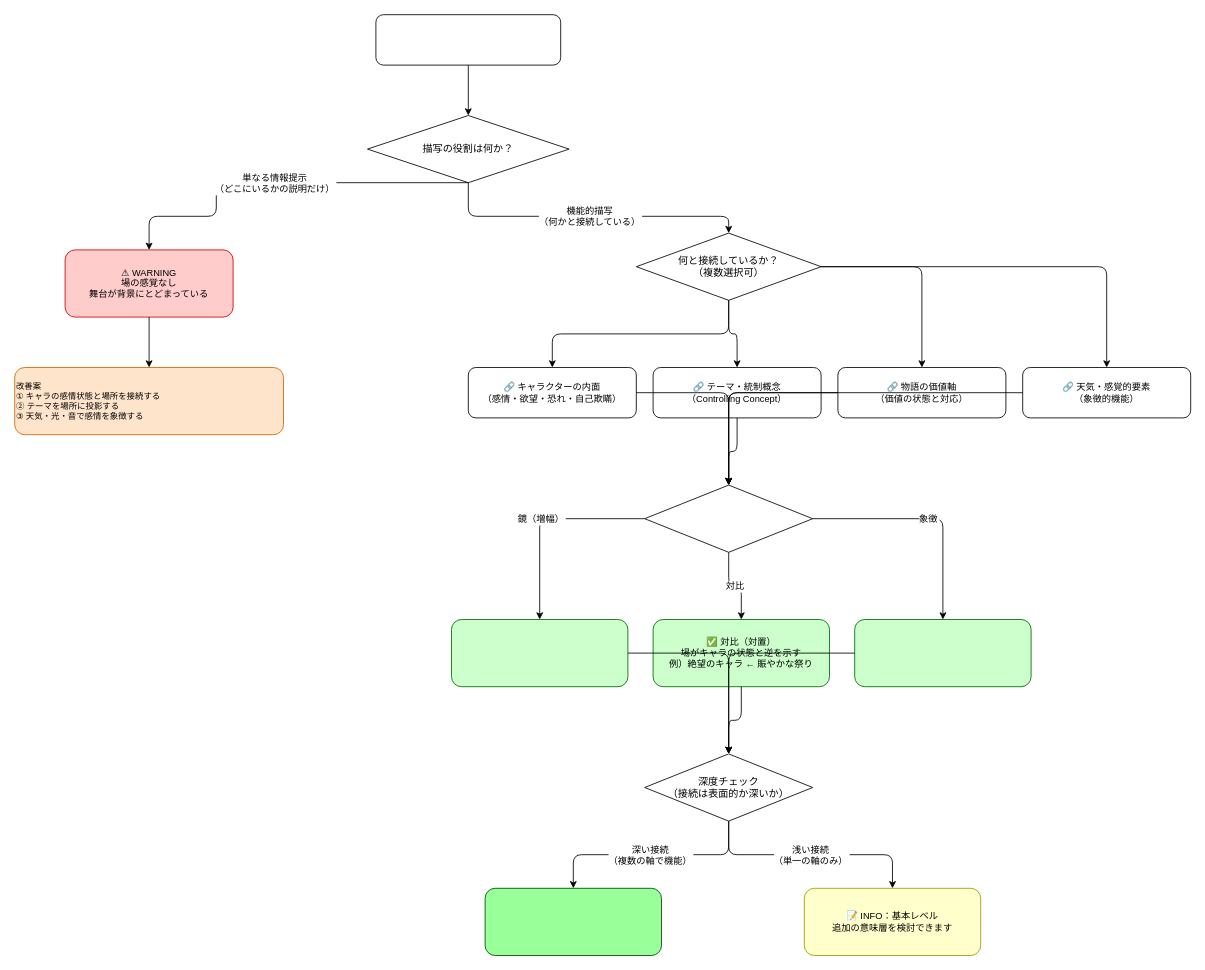
This 1205x970 diagram has some shape labels left out. The shapes that lost their labels are listed below. From the top down, each one's box as (x1, y1, x2, y2) in pixels, then its label:
(375, 14, 561, 65): シーンに 場所の描写がある
(644, 484, 813, 552): 接続の方向は？
(451, 619, 628, 687): ✅ 鏡（増幅） 場がキャラの状態を反射・強調 例）孤独なキャラ ← 廃れた街角
(854, 619, 1031, 687): ✅ 象徴（メタファー） 場が抽象的意味を担う 例）腐敗のテーマ ← 朽ちた建物
(484, 887, 662, 956): 🌟 EXCELLENT 場の感覚が多層的に機能 複数の意味を同時に担っている
